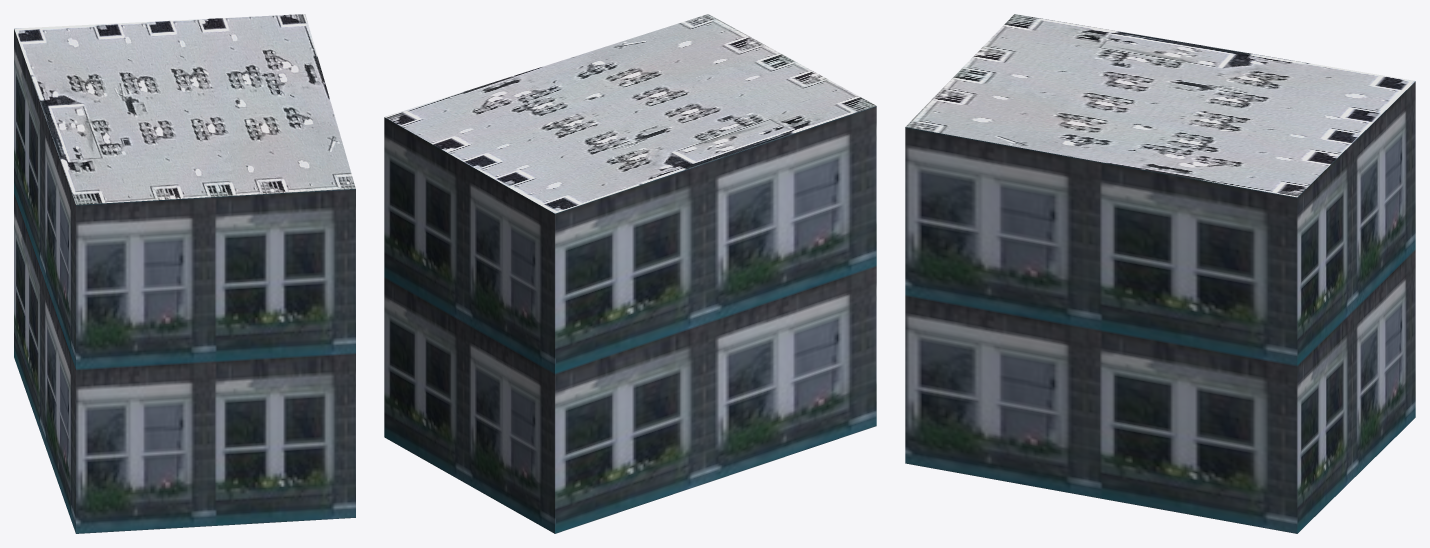
The model's file is ResTex__2591.fbx.
3 views of the same model, side by side, from view 1: azimuth 30°, elevation 25°; view 2: azimuth 150°, elevation 25°; view 3: azimuth 270°, elevation 25° (orthographic). The views are drawn at different scales.
Parts seen in each view (by area): view 1: CityEngineMaterial_11_m, CityEngineMaterial_4_m; view 2: CityEngineMaterial_11_m, CityEngineMaterial_4_m; view 3: CityEngineMaterial_11_m, CityEngineMaterial_4_m.
Part boxes in pixels (box(x1,y1,x2,y2)): CityEngineMaterial_11_m: box(14, 29, 355, 533); CityEngineMaterial_4_m: box(14, 14, 355, 204); CityEngineMaterial_11_m: box(384, 106, 876, 533); CityEngineMaterial_4_m: box(384, 14, 876, 213); CityEngineMaterial_11_m: box(905, 81, 1415, 533); CityEngineMaterial_4_m: box(905, 14, 1415, 197).
Size of the model in its own units: 7.02 by 6 by 8.25.
2 materials, 2 textured.
